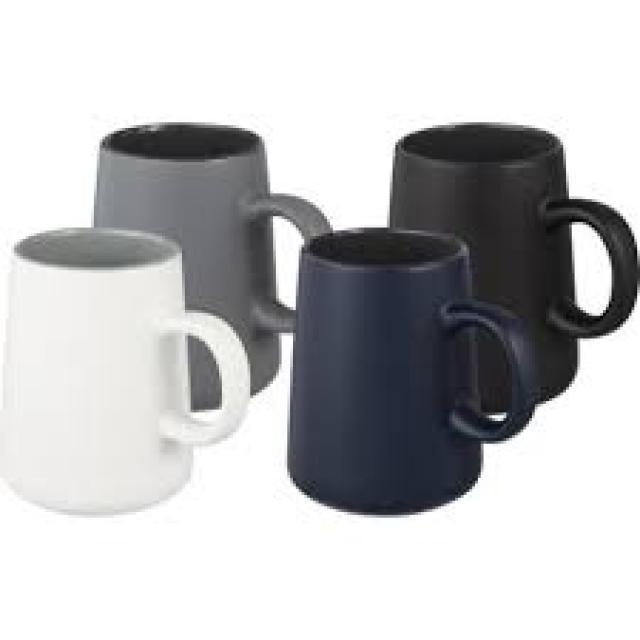taza: (84, 114, 338, 416), (1, 227, 254, 529), (283, 224, 546, 508), (392, 112, 634, 404)
